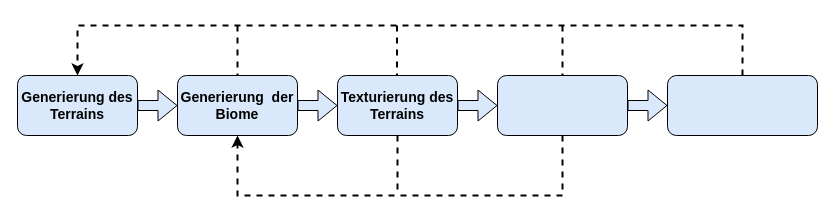
This 835x221 diagram has some shape labels left out. Here are the shapes that lost their labels. From the top down, the centre of each, then its label:
(562,105): Generierung der Vegetation
(742,105): Generierung von Siedlungsstrukturen
